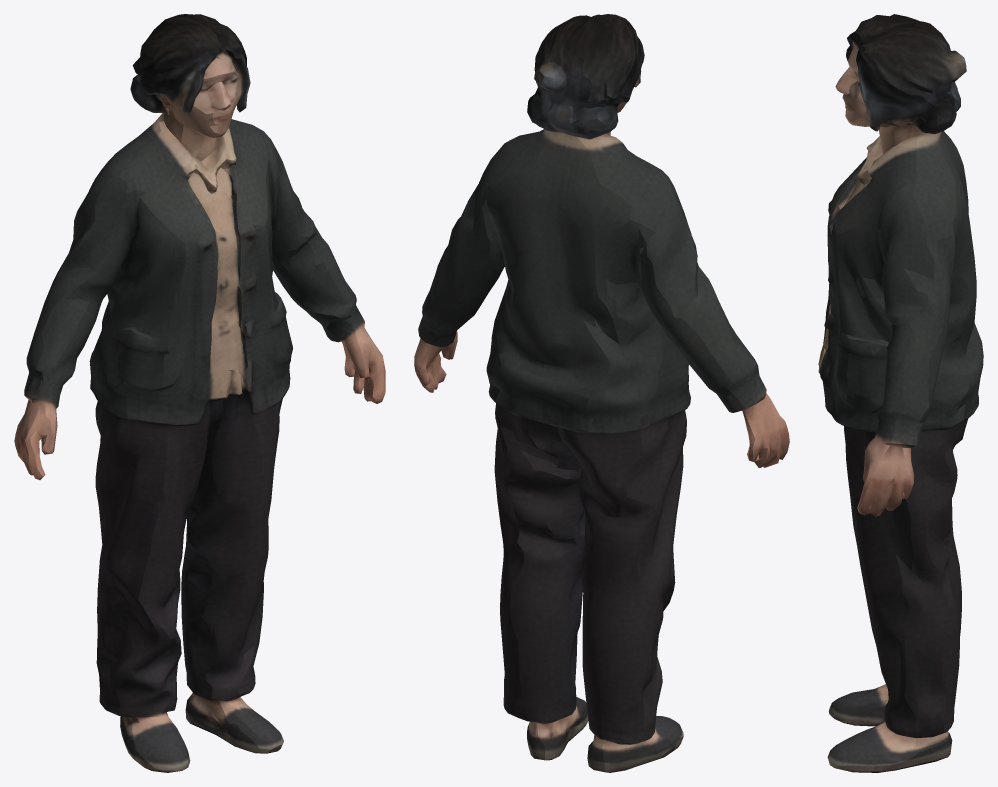
Rendered from zhou.glb.
3 views of the same model, side by side, from view 1: azimuth 30°, elevation 25°; view 2: azimuth 150°, elevation 25°; view 3: azimuth 270°, elevation 25° (orthographic).
Parts seen in each view (by area): view 1: world; view 2: world; view 3: world.
Boxes of the visible parts, x1,y1,x2,y2 form: world: (14, 14, 385, 772); world: (414, 14, 789, 772); world: (818, 14, 983, 772).
Bounding box in the file's own units: 0.5225 × 1 × 0.2088.
1 material, 1 textured.
